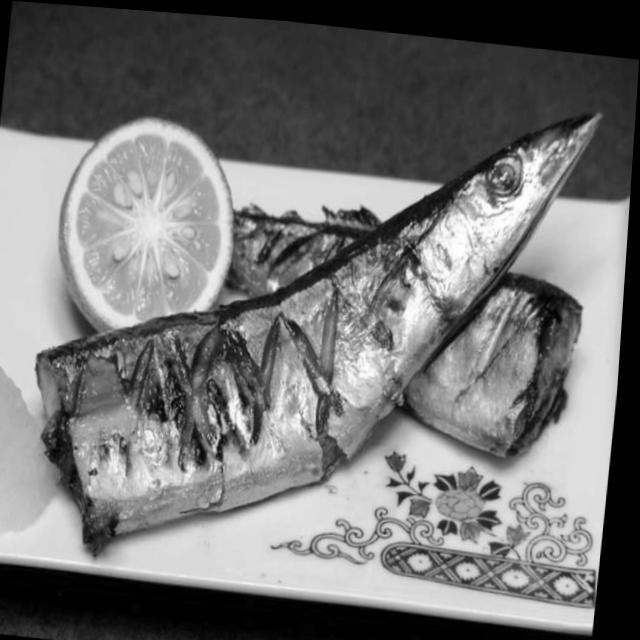熟制海鲜: (35, 21, 621, 599)
